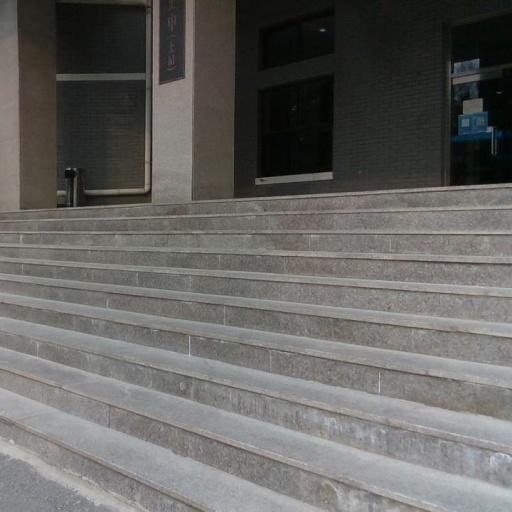stairs: (0, 186, 511, 511)
